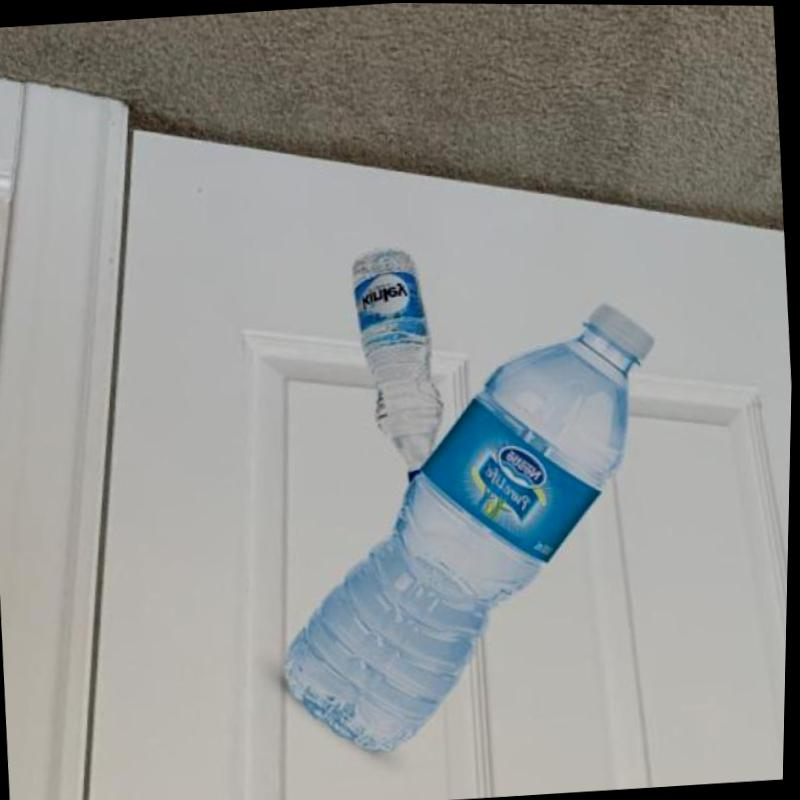botella: (253, 300, 684, 764), (346, 245, 455, 483)
